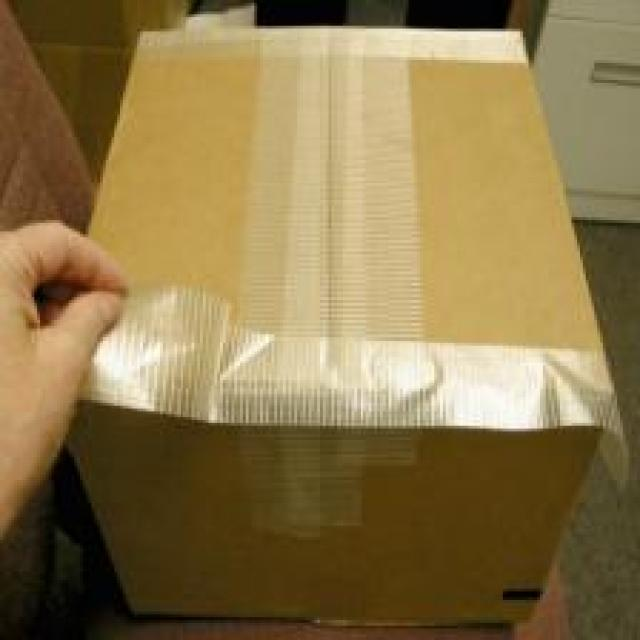box: (46, 28, 617, 623)
